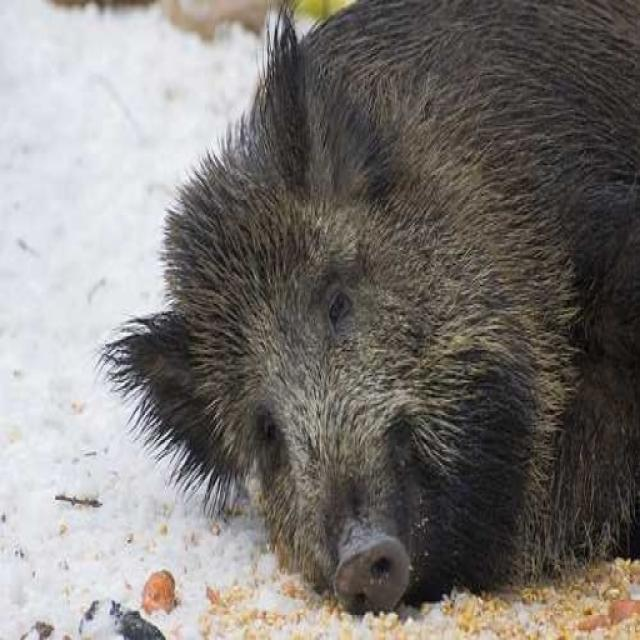pig: (61, 0, 640, 616)
